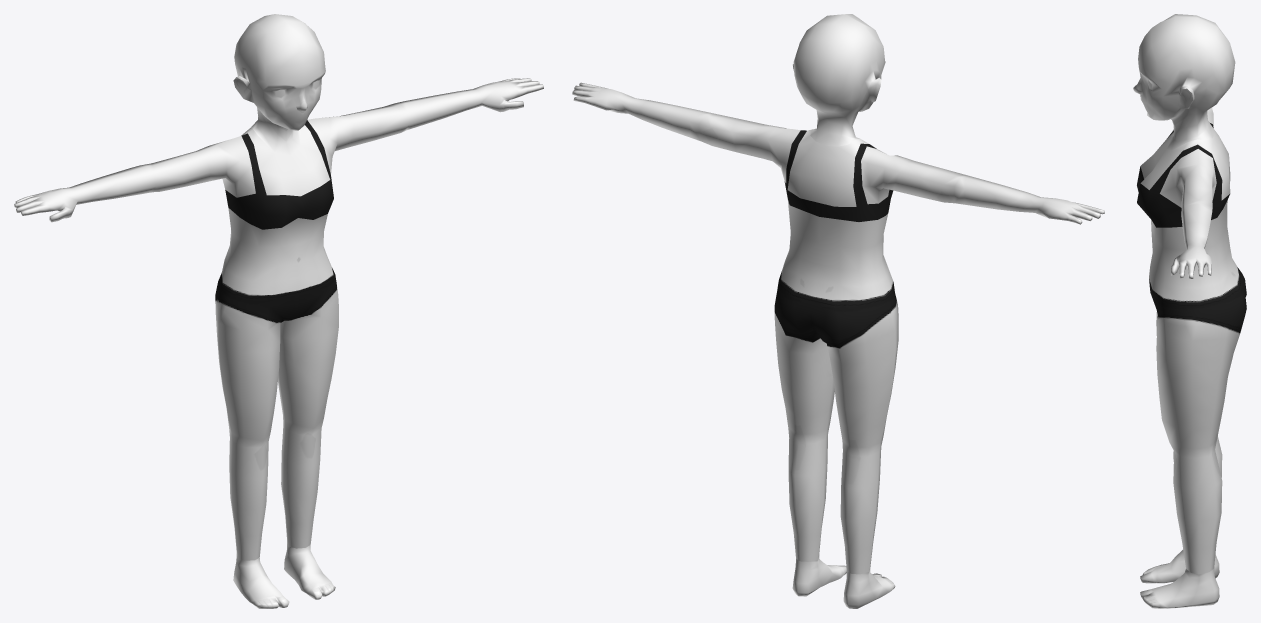
The model's file is FemaleSit.glb.
3 views of the same model, side by side, from view 1: azimuth 30°, elevation 25°; view 2: azimuth 150°, elevation 25°; view 3: azimuth 270°, elevation 25° (orthographic).
Parts seen in each view (by area): view 1: F_uBody_BaseMesh, F_lBody_BaseMesh, F_Head, F_Feet_BaseMesh; view 2: F_uBody_BaseMesh, F_lBody_BaseMesh, F_Head, F_Feet_BaseMesh; view 3: F_lBody_BaseMesh, F_uBody_BaseMesh, F_Head, F_Feet_BaseMesh.
Part boxes in pixels (box(x1,y1,x2,y2)): F_uBody_BaseMesh: box(14, 78, 543, 295); F_lBody_BaseMesh: box(215, 268, 338, 560); F_Head: box(233, 14, 325, 155); F_Feet_BaseMesh: box(233, 542, 335, 608); F_uBody_BaseMesh: box(572, 82, 1104, 301); F_lBody_BaseMesh: box(774, 272, 898, 574); F_Head: box(793, 14, 885, 146); F_Feet_BaseMesh: box(792, 556, 895, 608); F_lBody_BaseMesh: box(1149, 267, 1246, 574); F_uBody_BaseMesh: box(1137, 107, 1239, 302); F_Head: box(1133, 14, 1235, 150); F_Feet_BaseMesh: box(1140, 549, 1219, 608).
Bounding box in the file's own units: 1.83 × 1.91 × 0.3431.
Materials: 2 (2 with a texture image).
